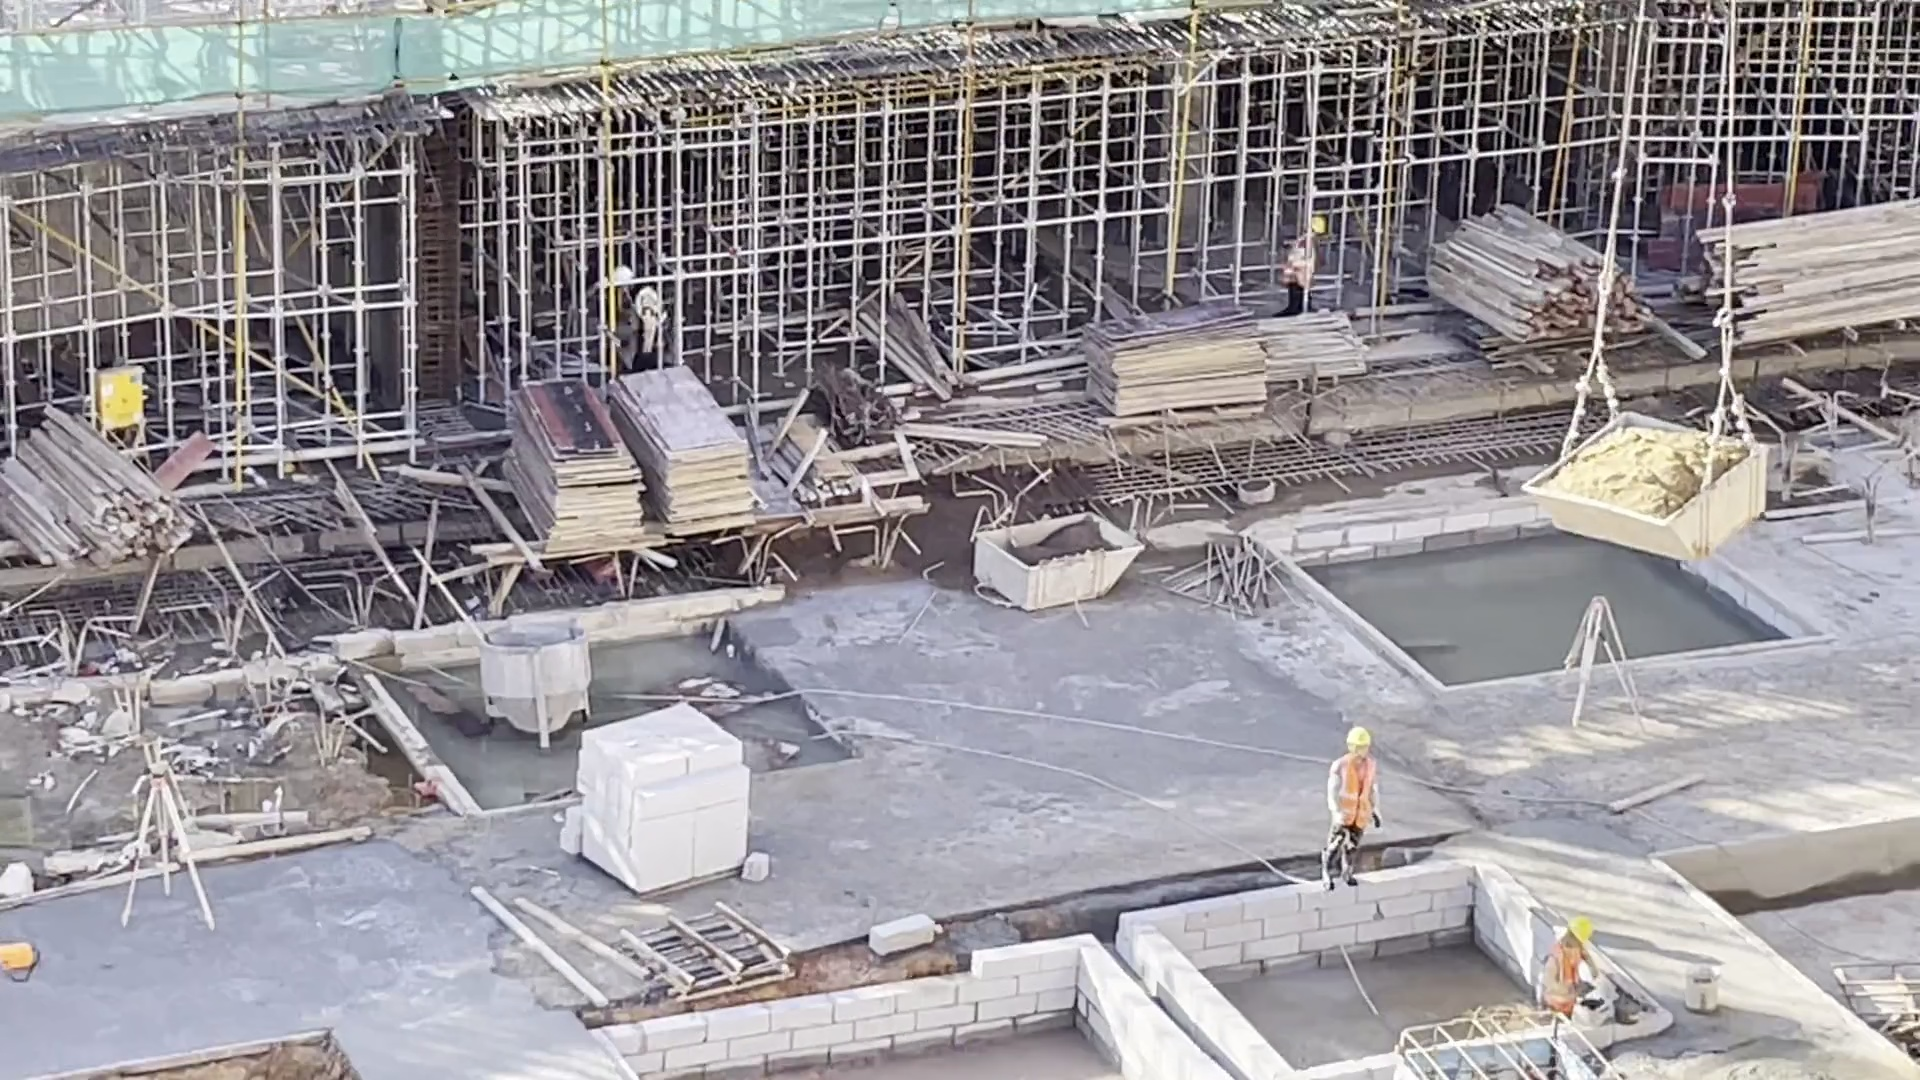board: (496, 375, 652, 563), (607, 361, 763, 541), (1078, 301, 1269, 417)
brick: (556, 700, 772, 895)
ebox: (97, 361, 155, 442)
helmet: (1566, 916, 1596, 945), (1345, 727, 1372, 745), (1310, 216, 1327, 236)
hopper: (1511, 408, 1771, 574), (971, 511, 1151, 623), (471, 619, 599, 753)
person: (1325, 720, 1382, 894), (1540, 915, 1611, 1023), (1279, 216, 1327, 317), (628, 285, 658, 375)
vest: (1333, 753, 1374, 833), (1546, 941, 1584, 1014)
wood: (1682, 193, 1920, 338), (1, 401, 197, 569), (1433, 204, 1649, 346)
